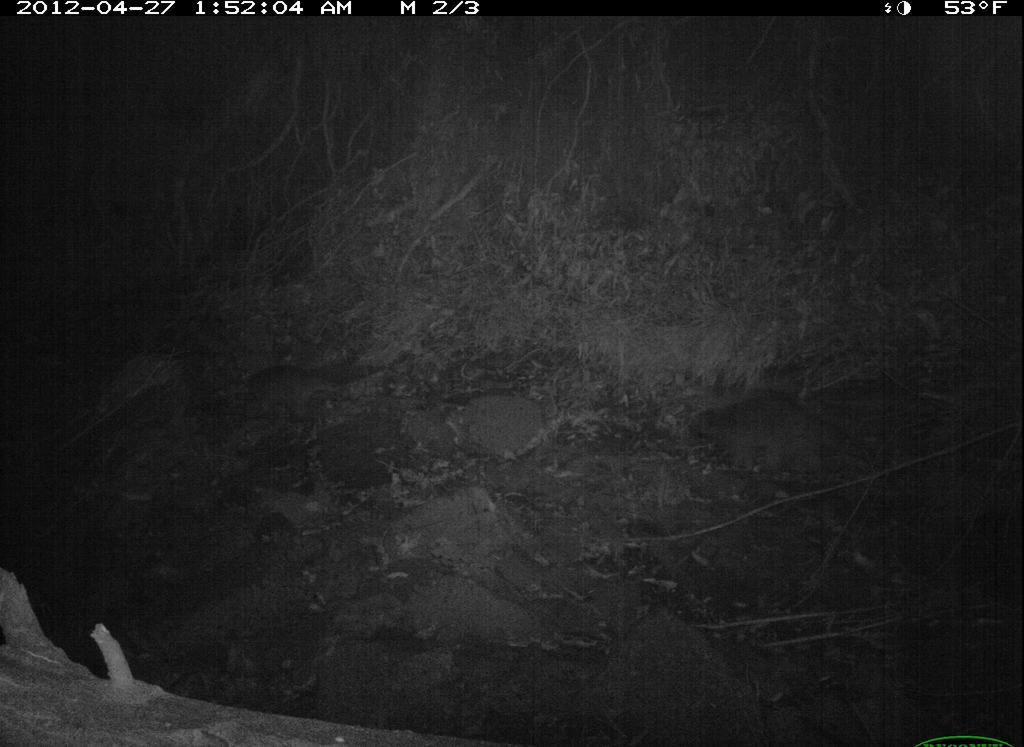raccoon: (680, 385, 894, 489), (232, 356, 355, 438)
